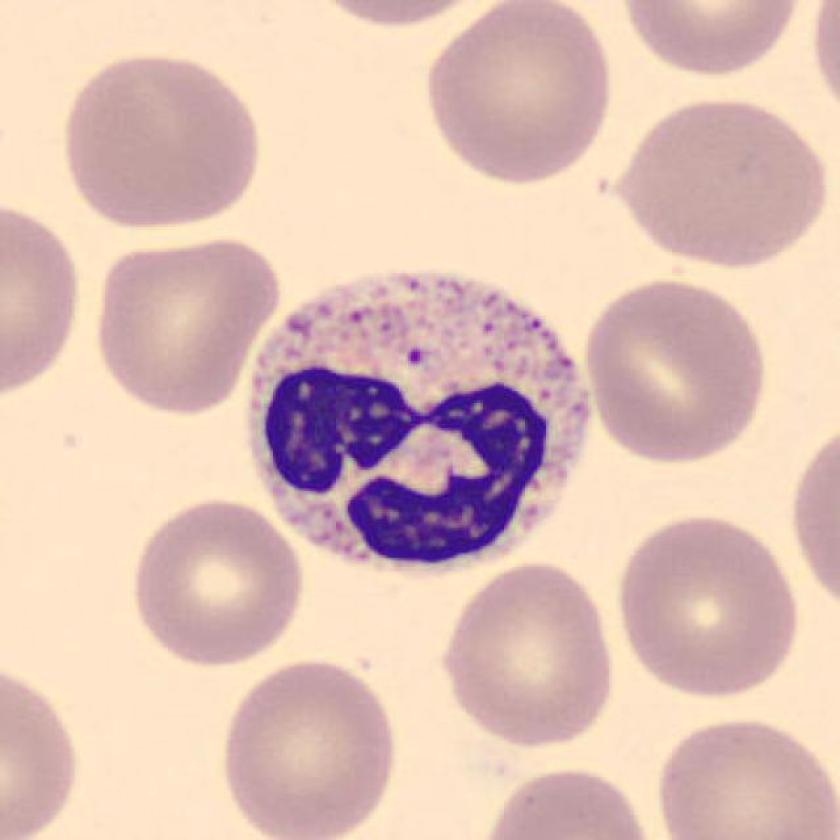neutrophil: (249, 273, 590, 564)
